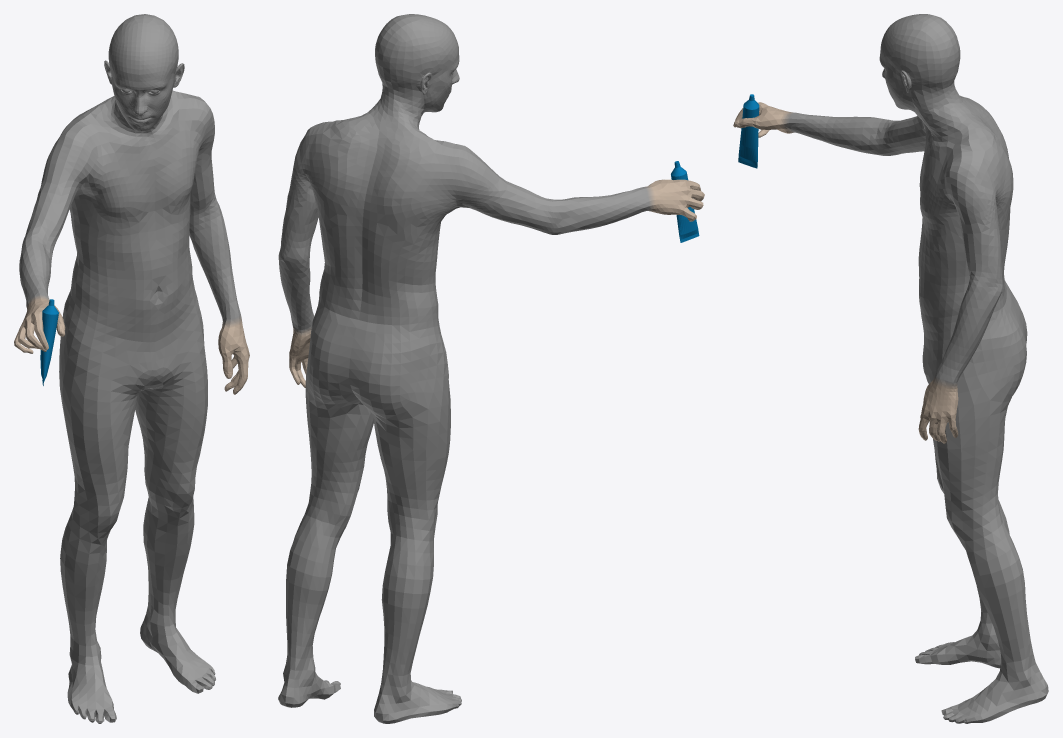
The model's file is ood_elevate_toothpaste_full.glb.
3 renders of one model, left to right at view 1: azimuth 30°, elevation 25°; view 2: azimuth 150°, elevation 25°; view 3: azimuth 270°, elevation 25°, orthographic. The views are drawn at different scales.
Visible parts, largest first — view 1: ood_elevate_toothpaste_full.obj; view 2: ood_elevate_toothpaste_full.obj; view 3: ood_elevate_toothpaste_full.obj.
Boxes of the visible parts, left/top/right/bottom form: ood_elevate_toothpaste_full.obj: left=14, top=14, right=249, bottom=723; ood_elevate_toothpaste_full.obj: left=278, top=14, right=704, bottom=723; ood_elevate_toothpaste_full.obj: left=733, top=14, right=1048, bottom=723.
Size of the model in its own units: 0.8625 by 1.77 by 0.7582.
